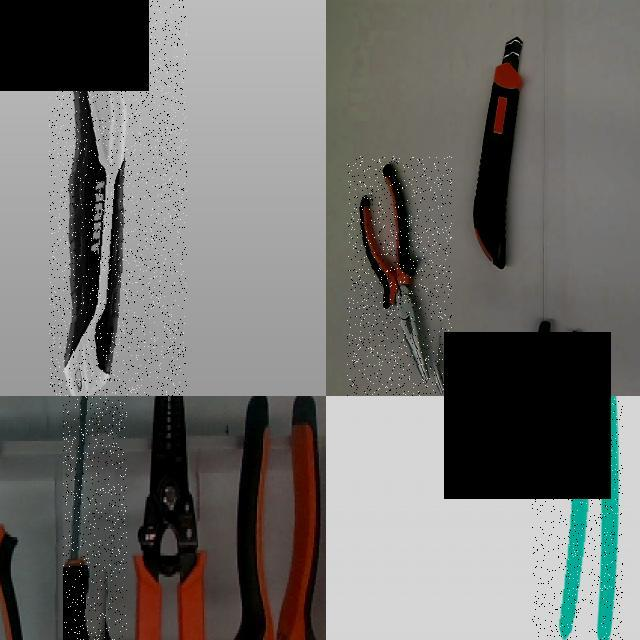estilete: (473, 37, 522, 269)
